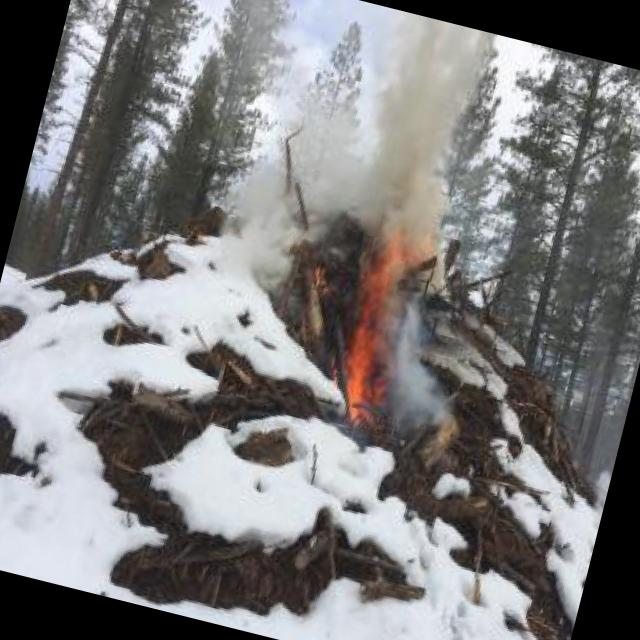fire: (321, 242, 411, 424)
smoke: (322, 5, 488, 266)
